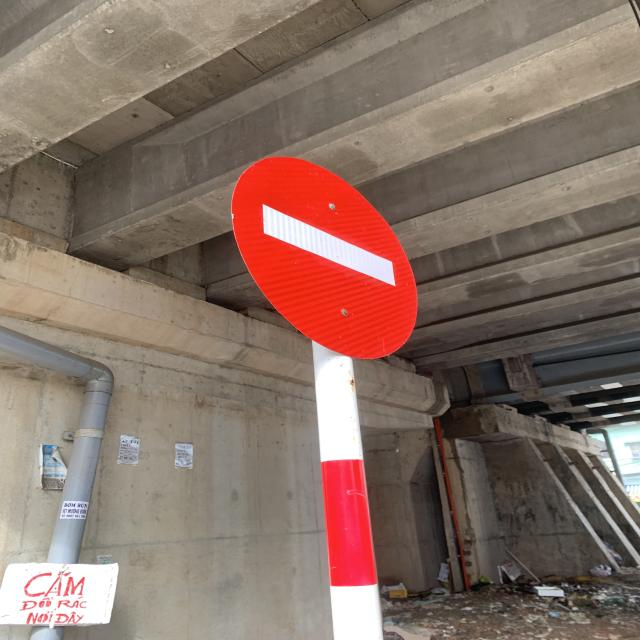Cam_Di_Nguoc_Chieu: (227, 156, 428, 358)
